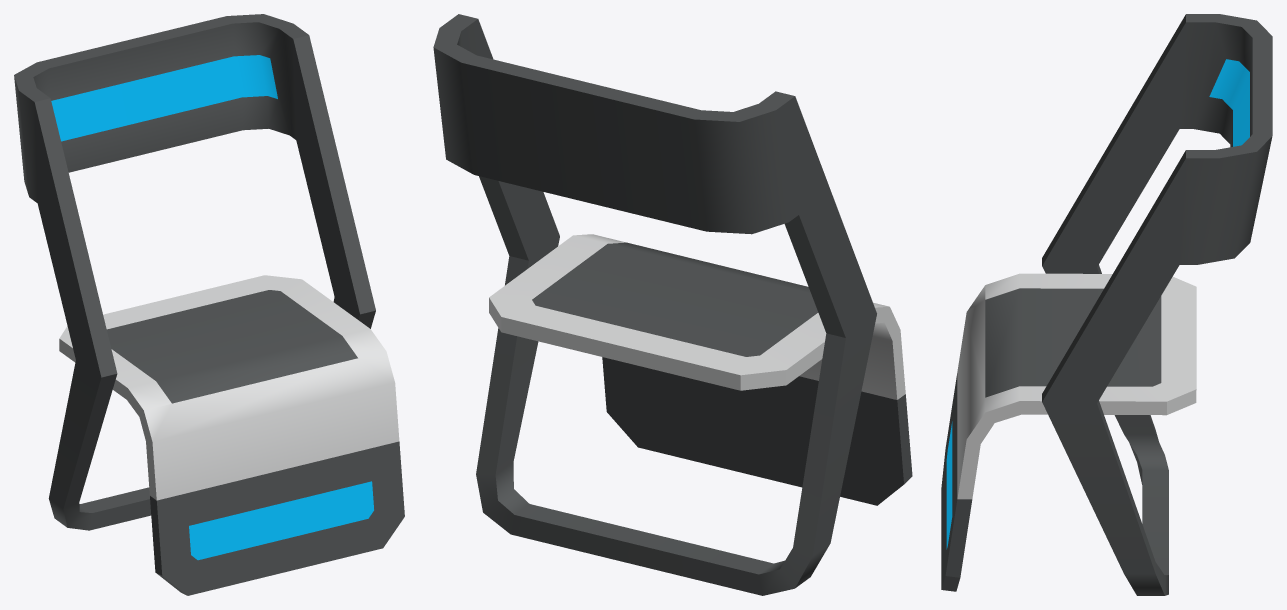
The model's file is Chair_014.glb.
The picture shows the model from 3 angles, left to right: view 1: azimuth 30°, elevation 25°; view 2: azimuth 150°, elevation 25°; view 3: azimuth 270°, elevation 25°; orthographic projection. The views are drawn at different scales.
Visible parts, largest first — view 1: Chair_014; view 2: Chair_014; view 3: Chair_014.
Boxes of the visible parts, box(x1,y1,x2,y2) form: Chair_014: box(14, 14, 404, 595); Chair_014: box(433, 14, 912, 595); Chair_014: box(941, 14, 1272, 595).
Size of the model in its own units: 0.6354 by 0.9332 by 0.6161.
2 materials, 2 textured.
